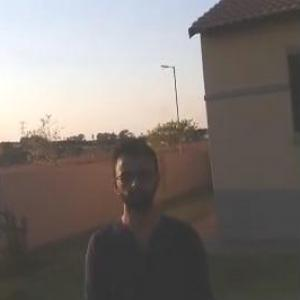follow: (79, 133, 216, 299)
